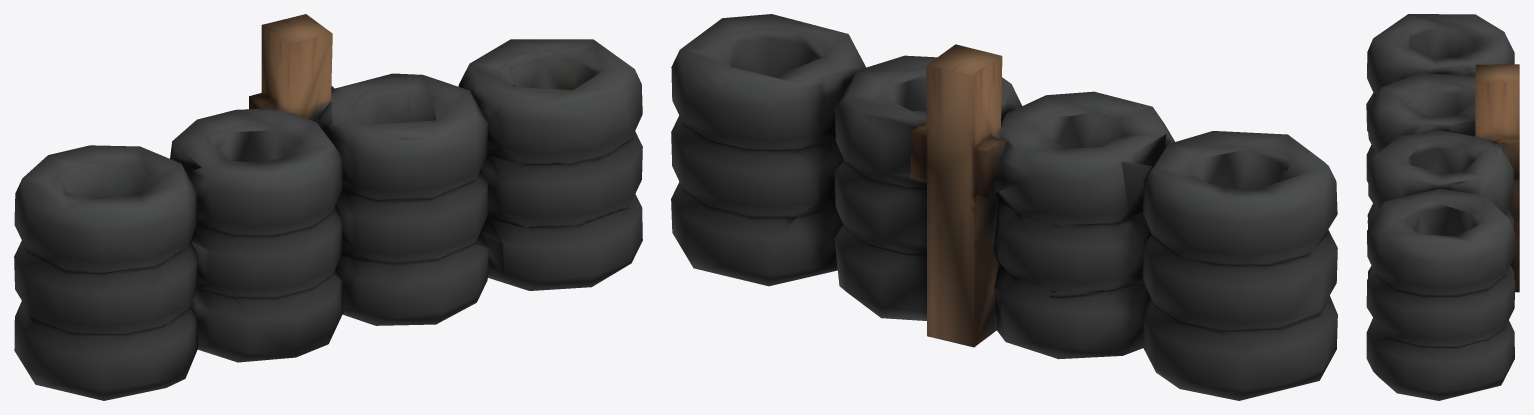
The model's file is TireWall.fbx.
3 views of the same model, side by side, from view 1: azimuth 30°, elevation 25°; view 2: azimuth 150°, elevation 25°; view 3: azimuth 270°, elevation 25° (orthographic). The views are drawn at different scales.
Parts seen in each view (by area): view 1: node_0; view 2: node_0; view 3: node_0.
Part boxes in pixels (left/top/right/bottom): node_0: left=14, top=14, right=642, bottom=400; node_0: left=671, top=14, right=1337, bottom=400; node_0: left=1366, top=14, right=1519, bottom=400.
Size of the model in its own units: 113 by 45.93 by 30.3.
Materials: 1 (1 with a texture image).
